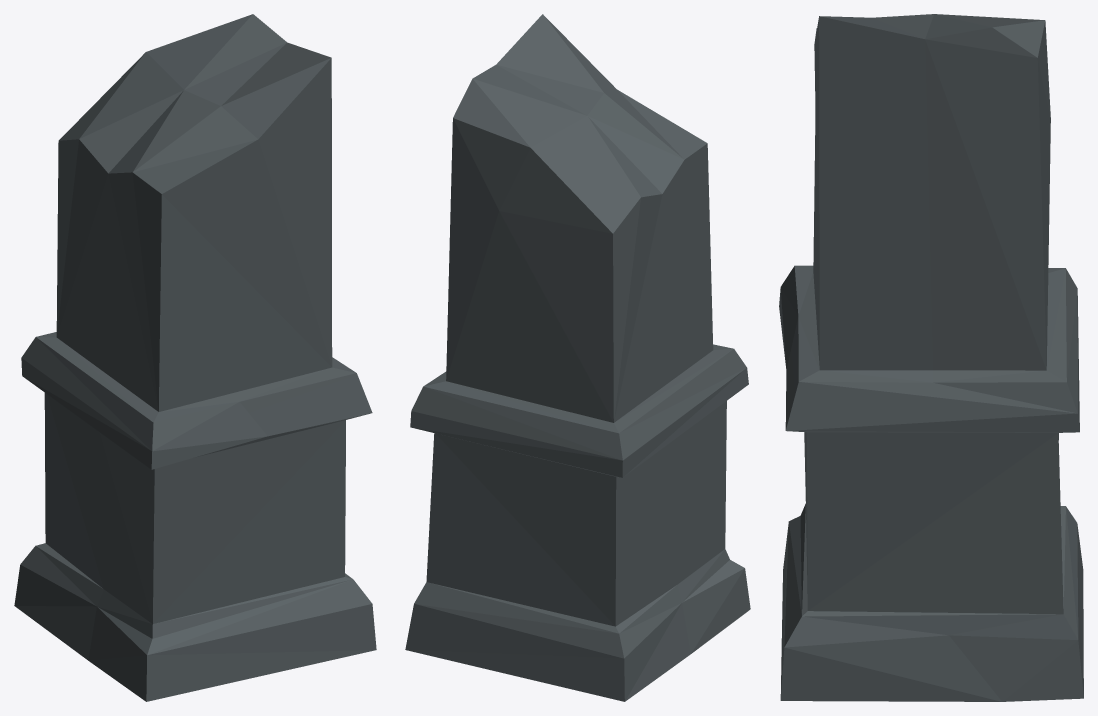
File: Ruins_03.fbx
3 views of the same model, side by side, from view 1: azimuth 30°, elevation 25°; view 2: azimuth 150°, elevation 25°; view 3: azimuth 270°, elevation 25° (orthographic). The views are drawn at different scales.
Parts seen in each view (by area): view 1: Ruins_03; view 2: Ruins_03; view 3: Ruins_03.
Boxes of the visible parts, left/top/right/bottom form: Ruins_03: left=14, top=14, right=376, bottom=701; Ruins_03: left=405, top=14, right=750, bottom=701; Ruins_03: left=779, top=14, right=1083, bottom=701.
Bounding box in the file's own units: 55.07 × 134 × 55.44.
